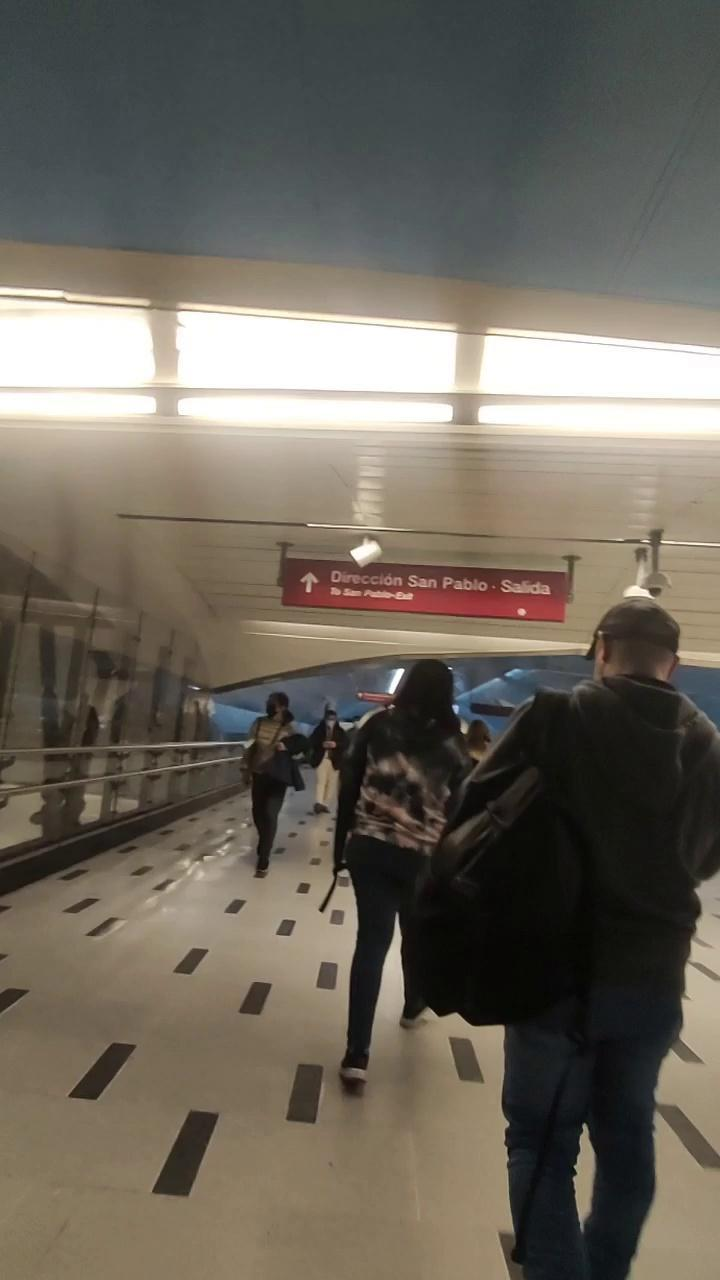up arrow: (298, 568, 322, 596)
